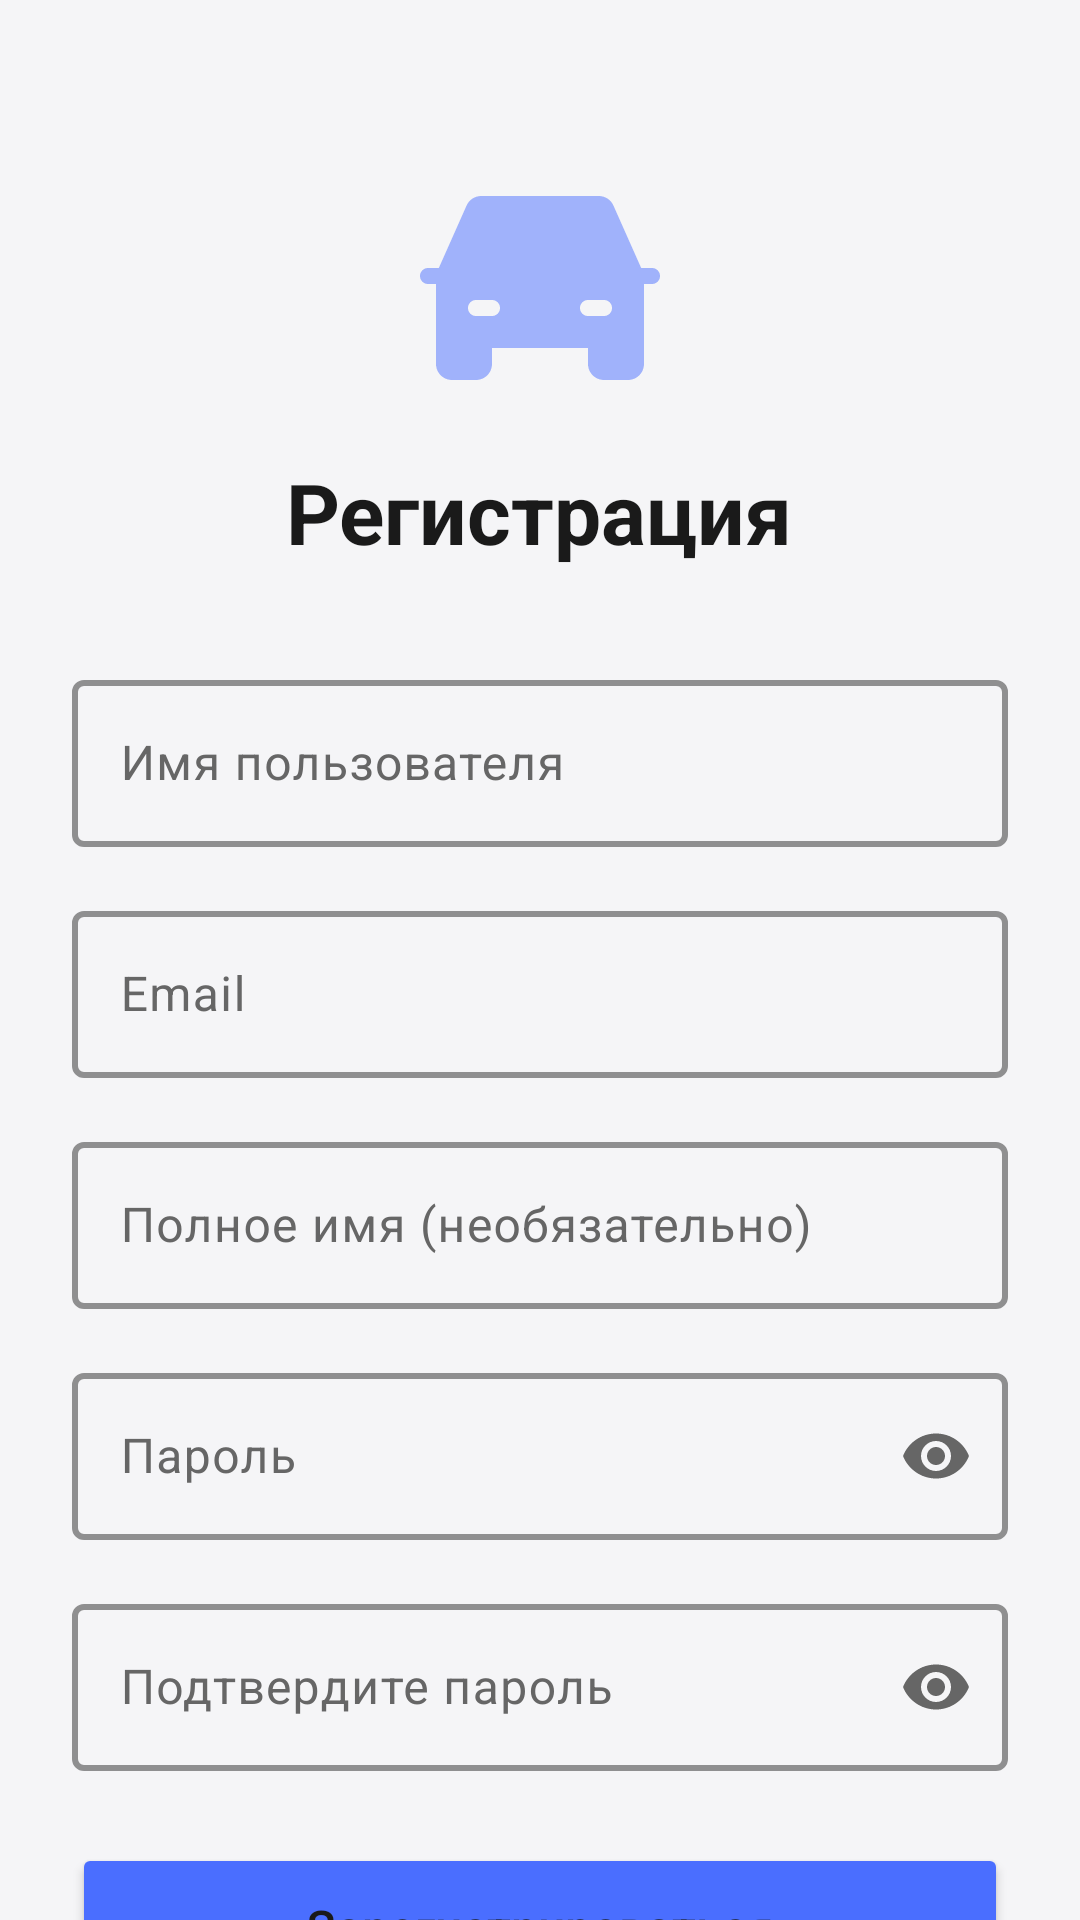

Screen size 1080px×1920px. Icon name, then its box in pixels as [x1,y1,x2,y2]:
car: [420,196,660,380]
